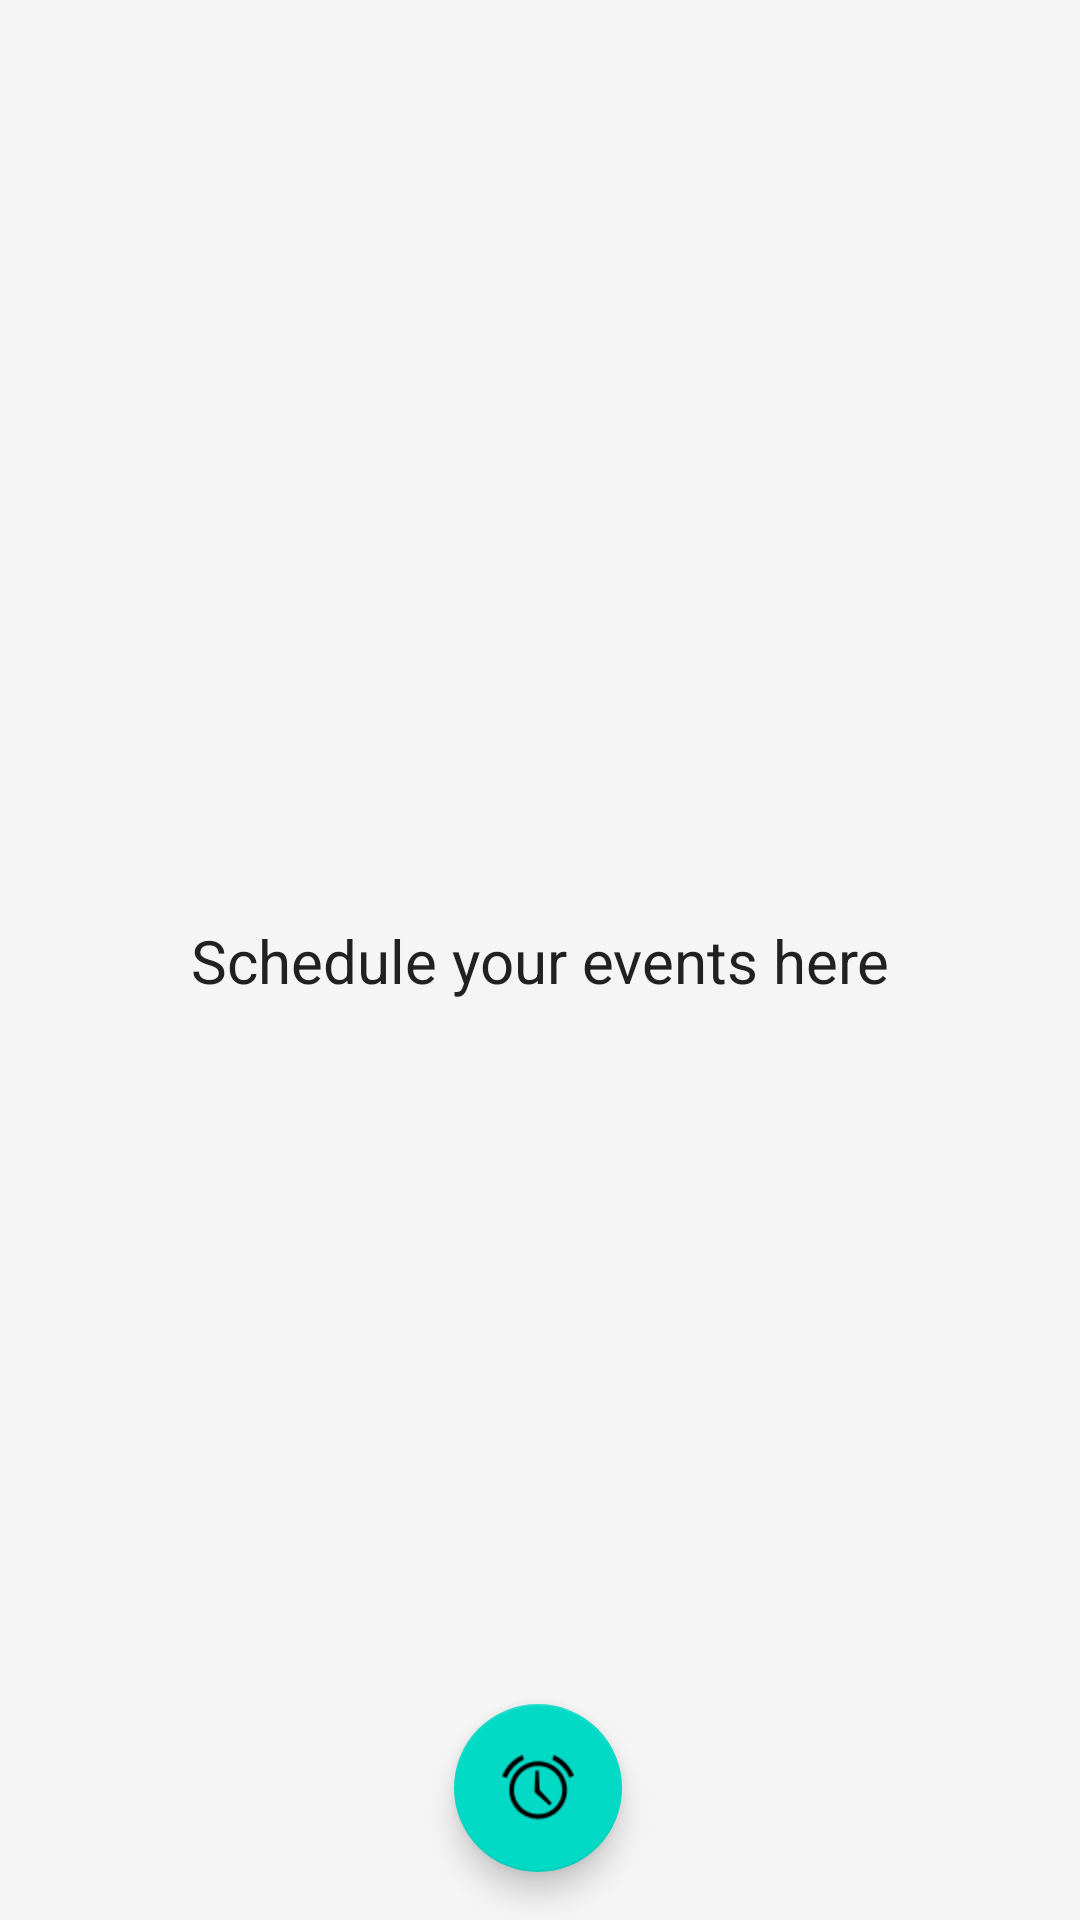

Named icons in this screenshot (1080 × 1920) and their centers, (x,y):
lock idle alarm: (538,1788)
